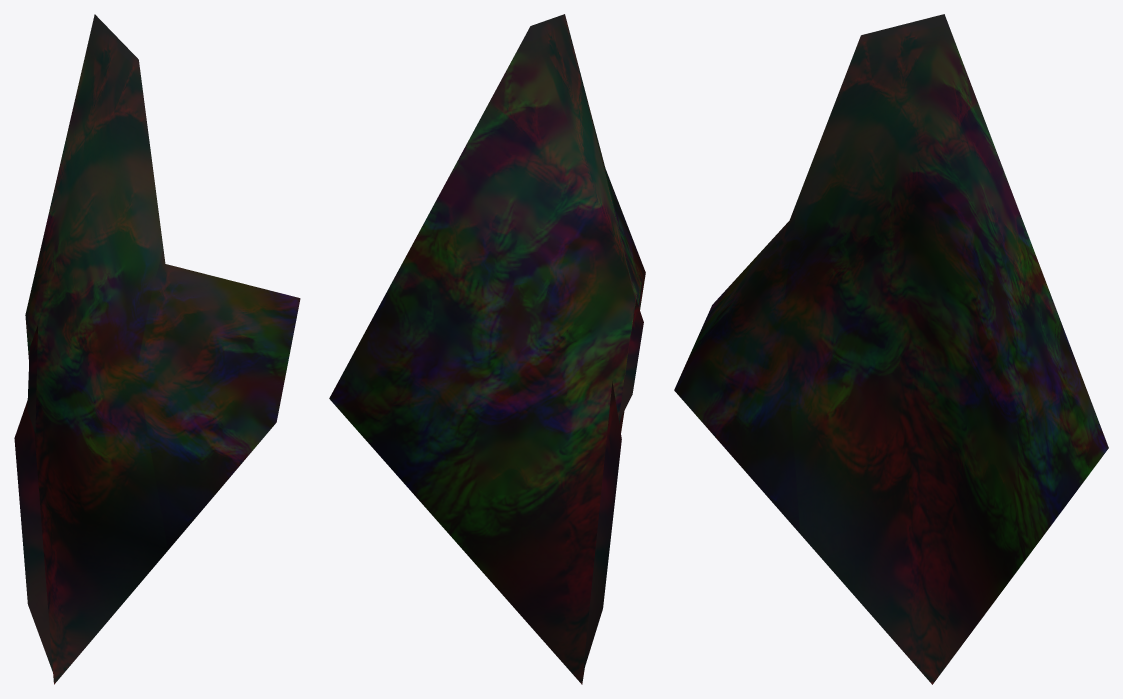
The model's file is DeadOak_01_Mesh_A.fbx.
The picture shows the model from 3 angles, left to right: view 1: azimuth 30°, elevation 25°; view 2: azimuth 150°, elevation 25°; view 3: azimuth 270°, elevation 25°; orthographic projection. The views are drawn at different scales.
Visible parts, largest first — view 1: Plane.002; view 2: Plane.002; view 3: Plane.002.
Boxes of the visible parts, box(x1,y1,x2,y2) form: Plane.002: box(14, 14, 300, 684); Plane.002: box(329, 14, 645, 684); Plane.002: box(674, 14, 1108, 684).
Bounding box in the file's own units: 67.33 × 197 × 111.
